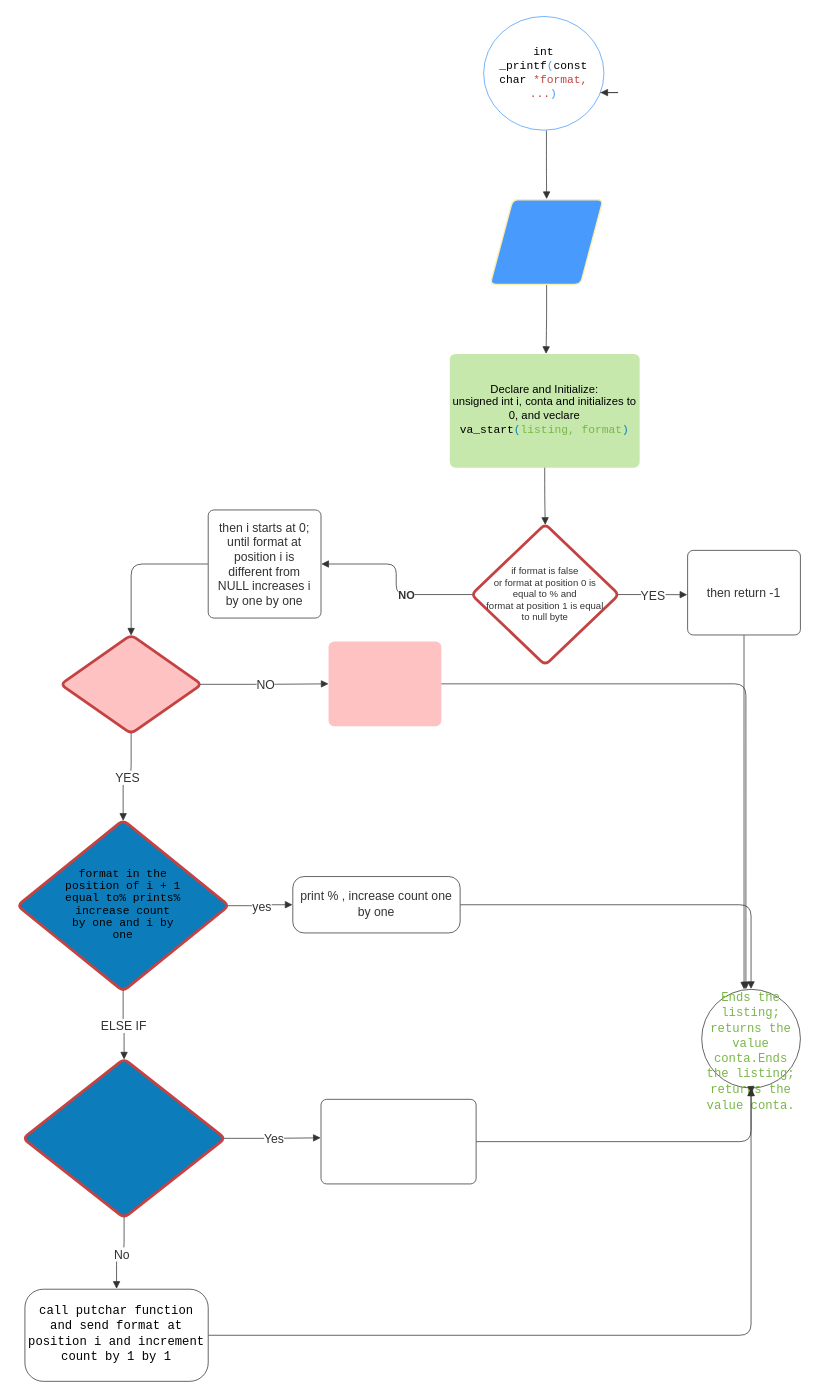
Image size: 817x1398. Some labels were removed from this diagram. The shapes that lost their labels are listed below. From the top down, each one's box as (x1, y1, x2, y2) in pixels, then its label:
(489, 199, 603, 285): const char * formato, ...
(59, 633, 203, 735): si format en la poscicion i es igual a %
(327, 640, 442, 726): Finish the listing and returns the conta value
(21, 1057, 226, 1219): the ctype function with format parameters, i + 1, is different from null
(320, 1098, 476, 1184): Conta accumulates the value of Ctype and i increases one by one
